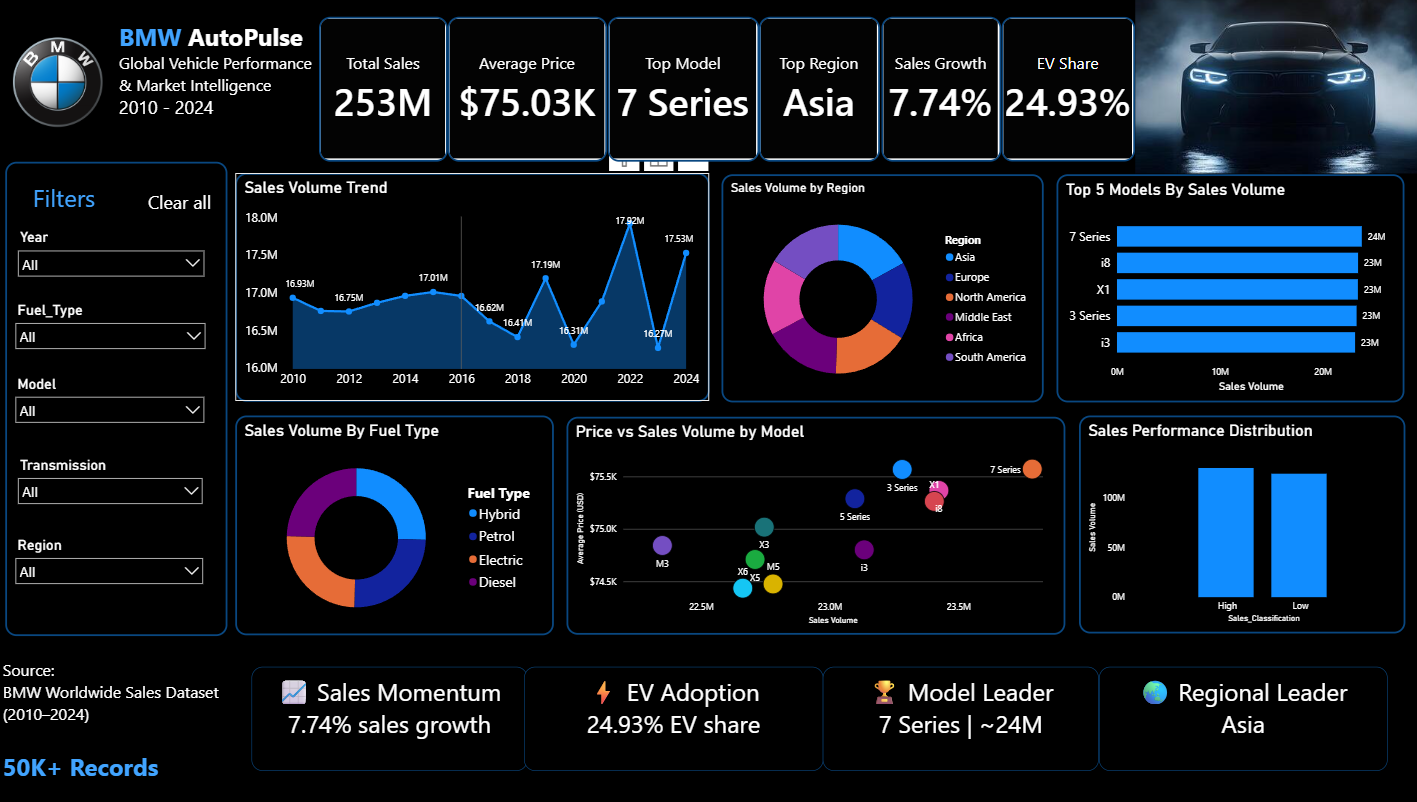

This screenshot's page, from the dashboard's own definition file:
{"tool":"powerbi","page":{"name":"Page 1","canvas":[1900,1080],"ordinal":0},"visuals":[{"type":"shape","box":[9,219,296.8,633.4],"z":0,"group":"g3"},{"type":"lineChart","title":"Sales Volume Trend","fields":{"Category":["BMW sales data (2010-2024).Year"],"Y":["Sum(BMW sales data (2010-2024).Sales_Volume)"]},"box":[315.7,234.2,633.5,305.5],"z":0},{"type":"donutChart","title":"Sales Volume by Region","fields":{"Category":["BMW sales data (2010-2024).Region"],"Y":["Sum(BMW sales data (2010-2024).Sales_Volume)"]},"box":[965,235,430,305],"z":1000},{"type":"textbox","box":[41.5,240,148.4,69.4],"z":1000,"group":"g3"},{"type":"clusteredBarChart","title":"Top 5 Models By Sales Volume","fields":{"Category":["BMW sales data (2010-2024).Model"],"Y":["Sum(BMW sales data (2010-2024).Sales_Volume)"]},"box":[1412.5,235,465,305],"z":2000},{"type":"group","id":"g1","title":"Group 2","box":[11.6,304.3,273.8,508.3],"z":3000,"group":"g3"},{"type":"donutChart","title":"Sales Volume By Fuel Type","fields":{"Y":["Sum(BMW sales data (2010-2024).Sales_Volume)"],"Category":["BMW sales data (2010-2024).Fuel_Type"]},"box":[315.7,558.1,425.7,293.3],"z":3000},{"type":"scatterChart","title":"Price vs Sales Volume by Model","fields":{"X":["Sum(BMW sales data (2010-2024).Sales_Volume)"],"Y":["Avg(BMW sales data (2010-2024).Price_USD)"],"Category":["BMW sales data (2010-2024).Model"],"Series":["BMW sales data (2010-2024).Model"]},"box":[757.7,560.1,666.1,291.3],"z":4000},{"type":"clusteredColumnChart","title":"Sales Performance Distribution","fields":{"Category":["BMW sales data (2010-2024).Sales_Classification"],"Y":["Sum(BMW sales data (2010-2024).Sales_Volume)"]},"box":[1442.1,558.1,435.9,291.3],"z":5000},{"type":"cardVisual","fields":{"Data":["BMW sales data (2010-2024).Total Sales"]},"box":[427.7,24.4,172.1,193.5],"z":6000,"group":"g2"},{"type":"textbox","box":[0,877.9,315.7,201.7],"z":6000},{"type":"textbox","box":[154.8,24.4,272.9,193.5],"z":7000},{"type":"cardVisual","fields":{"Data":["BMW sales data (2010-2024).Average Price"]},"box":[599.8,24.4,213,193.5],"z":7000,"group":"g2"},{"type":"group","id":"g2","title":"Group 1","box":[427.7,24.4,1089.7,193.5],"z":8000},{"type":"cardVisual","fields":{"Data":["BMW sales data (2010-2024).top model"]},"box":[812.8,24.4,202.8,193.5],"z":8000,"group":"g2"},{"type":"cardVisual","fields":{"Data":["BMW sales data (2010-2024).Top Region"]},"box":[1015.6,24.4,161.8,193.5],"z":9000,"group":"g2"},{"type":"group","id":"g3","title":"Group 3","box":[9,219,296.8,633.4],"z":9000},{"type":"actionButton","box":[164.2,240.8,123.6,63.5],"z":9001,"group":"g3"},{"type":"image","box":[0,0,153.8,219],"z":10000},{"type":"cardVisual","fields":{"Data":["BMW sales data (2010-2024).Sales Growth %"]},"box":[1179.5,24.4,159.8,193.5],"z":10000,"group":"g2"},{"type":"image","box":[1517.5,0,382.9,234.2],"z":11000},{"type":"cardVisual","fields":{"Data":["BMW sales data (2010-2024).EV Share"]},"box":[1339.2,24.4,178.2,193.5],"z":11000,"group":"g2"},{"type":"slicer","fields":{"Values":["BMW sales data (2010-2024).Transmission"]},"box":[15,607.8,267.2,96.8],"z":12000},{"type":"textbox","box":[336.6,894.4,369.1,138.9],"z":12000,"group":"g4"},{"type":"group","id":"g4","title":"Group 4","box":[336.6,894,1518.3,139.3],"z":13000},{"type":"textbox","box":[700.5,894.4,399.9,138.9],"z":13000,"group":"g4"},{"type":"textbox","box":[1100.4,894,369.1,138.9],"z":14000,"group":"g4"},{"type":"textbox","box":[1469.5,894,385.4,138.9],"z":15000,"group":"g4"},{"type":"slicer","fields":{"Values":["BMW sales data (2010-2024).Year"]},"box":[14.9,304.3,268.8,100.2],"z":16000,"group":"g1"},{"type":"slicer","fields":{"Values":["BMW sales data (2010-2024).Fuel_Type"]},"box":[11.6,400.7,273.8,95.2],"z":17000,"group":"g1"},{"type":"slicer","fields":{"Values":["BMW sales data (2010-2024).Model"]},"box":[12.1,499.2,272.2,105.2],"z":18000,"group":"g1"},{"type":"slicer","fields":{"Values":["BMW sales data (2010-2024).Region"]},"box":[12.4,715.4,271,97.2],"z":19000,"group":"g1"}]}

Visuals, with their boxes in screenshot pixels (x1, y1, x2, y2), scaled from the page's 1900x1080 canvas onto the 1417x802 screenshot:
shape: x1=7 y1=163 x2=228 y2=633
"Sales Volume Trend" lineChart: x1=235 y1=174 x2=708 y2=401
"Sales Volume by Region" donutChart: x1=720 y1=175 x2=1040 y2=401
textbox: x1=31 y1=178 x2=142 y2=230
"Top 5 Models By Sales Volume" clusteredBarChart: x1=1053 y1=175 x2=1400 y2=401
"Group 2" group: x1=9 y1=226 x2=213 y2=603
"Sales Volume By Fuel Type" donutChart: x1=235 y1=414 x2=553 y2=632
"Price vs Sales Volume by Model" scatterChart: x1=565 y1=416 x2=1062 y2=632
"Sales Performance Distribution" clusteredColumnChart: x1=1076 y1=414 x2=1401 y2=631
cardVisual - BMW sales data (2010-2024).Total Sales: x1=319 y1=18 x2=447 y2=162
textbox: x1=0 y1=652 x2=235 y2=801
textbox: x1=115 y1=18 x2=319 y2=162
cardVisual - BMW sales data (2010-2024).Average Price: x1=447 y1=18 x2=606 y2=162
"Group 1" group: x1=319 y1=18 x2=1132 y2=162
cardVisual - BMW sales data (2010-2024).top model: x1=606 y1=18 x2=757 y2=162
cardVisual - BMW sales data (2010-2024).Top Region: x1=757 y1=18 x2=878 y2=162
"Group 3" group: x1=7 y1=163 x2=228 y2=633
actionButton: x1=122 y1=179 x2=215 y2=226
image: x1=0 y1=0 x2=115 y2=163
cardVisual - BMW sales data (2010-2024).Sales Growth %: x1=880 y1=18 x2=999 y2=162
image: x1=1132 y1=0 x2=1416 y2=174
cardVisual - BMW sales data (2010-2024).EV Share: x1=999 y1=18 x2=1132 y2=162
slicer - BMW sales data (2010-2024).Transmission: x1=11 y1=451 x2=210 y2=523
textbox: x1=251 y1=664 x2=526 y2=767
"Group 4" group: x1=251 y1=664 x2=1383 y2=767
textbox: x1=522 y1=664 x2=821 y2=767
textbox: x1=821 y1=664 x2=1096 y2=767
textbox: x1=1096 y1=664 x2=1383 y2=767
slicer - BMW sales data (2010-2024).Year: x1=11 y1=226 x2=212 y2=300
slicer - BMW sales data (2010-2024).Fuel_Type: x1=9 y1=298 x2=213 y2=368
slicer - BMW sales data (2010-2024).Model: x1=9 y1=371 x2=212 y2=449
slicer - BMW sales data (2010-2024).Region: x1=9 y1=531 x2=211 y2=603
